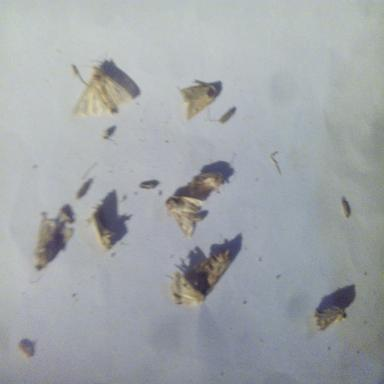abw: (70, 62, 133, 119), (29, 213, 77, 276), (184, 245, 236, 293), (161, 192, 207, 240), (174, 80, 223, 124), (84, 203, 120, 253), (170, 266, 208, 312), (184, 165, 231, 198), (309, 304, 350, 336)
